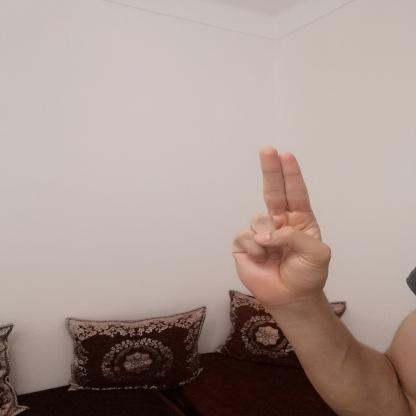TA: (218, 137, 340, 316)
